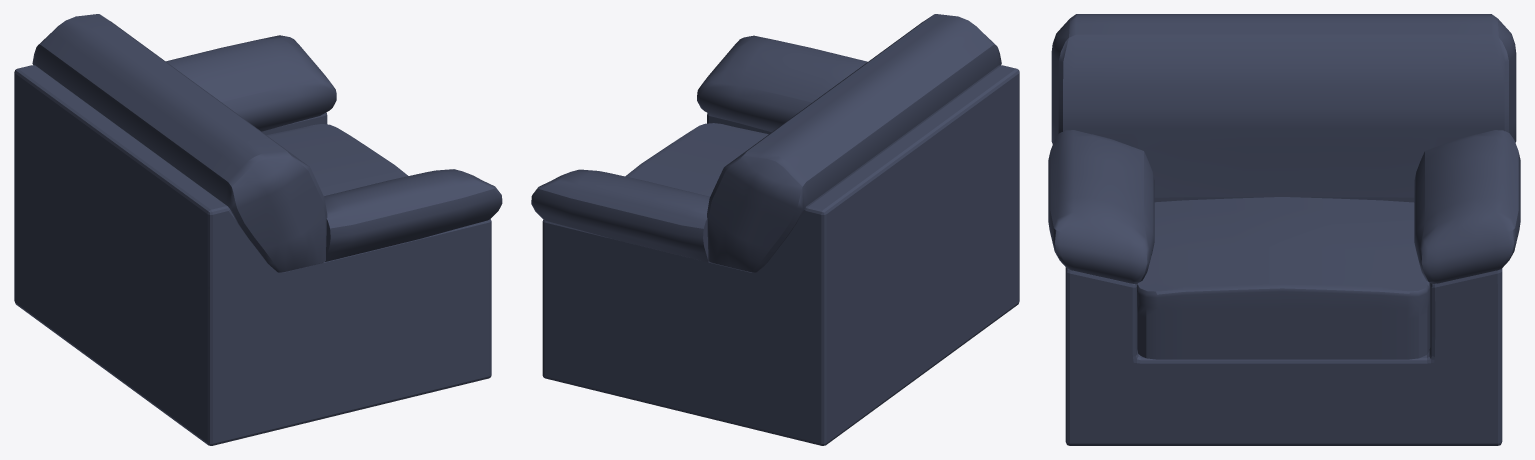
The model's file is chair.fbx.
3 renders of one model, left to right at view 1: azimuth 30°, elevation 25°; view 2: azimuth 150°, elevation 25°; view 3: azimuth 270°, elevation 25°, orthographic. The views are drawn at different scales.
Parts seen in each view (by area): view 1: couchFrame02, backCushion01, armCushion01, armCushion02, cushion01; view 2: couchFrame02, backCushion01, armCushion02, armCushion01, cushion01; view 3: backCushion01, couchFrame02, cushion01, armCushion01, armCushion02.
Part boxes in pixels (x1=…): couchFrame02: x1=14, y1=65, x2=491, y2=445; backCushion01: x1=32, y1=14, x2=327, y2=272; armCushion01: x1=324, y1=169, x2=502, y2=261; armCushion02: x1=166, y1=35, x2=336, y2=131; cushion01: x1=266, y1=124, x2=407, y2=196; couchFrame02: x1=542, y1=65, x2=1019, y2=445; backCushion01: x1=707, y1=14, x2=1001, y2=272; armCushion02: x1=531, y1=169, x2=709, y2=262; armCushion01: x1=697, y1=35, x2=867, y2=132; cushion01: x1=625, y1=123, x2=768, y2=196; backCushion01: x1=1051, y1=14, x2=1516, y2=202; couchFrame02: x1=1065, y1=267, x2=1502, y2=445; cushion01: x1=1137, y1=197, x2=1430, y2=359; armCushion01: x1=1048, y1=130, x2=1154, y2=284; armCushion02: x1=1414, y1=130, x2=1520, y2=283.
Size of the model in its own units: 3.69 by 3.37 by 4.69.
